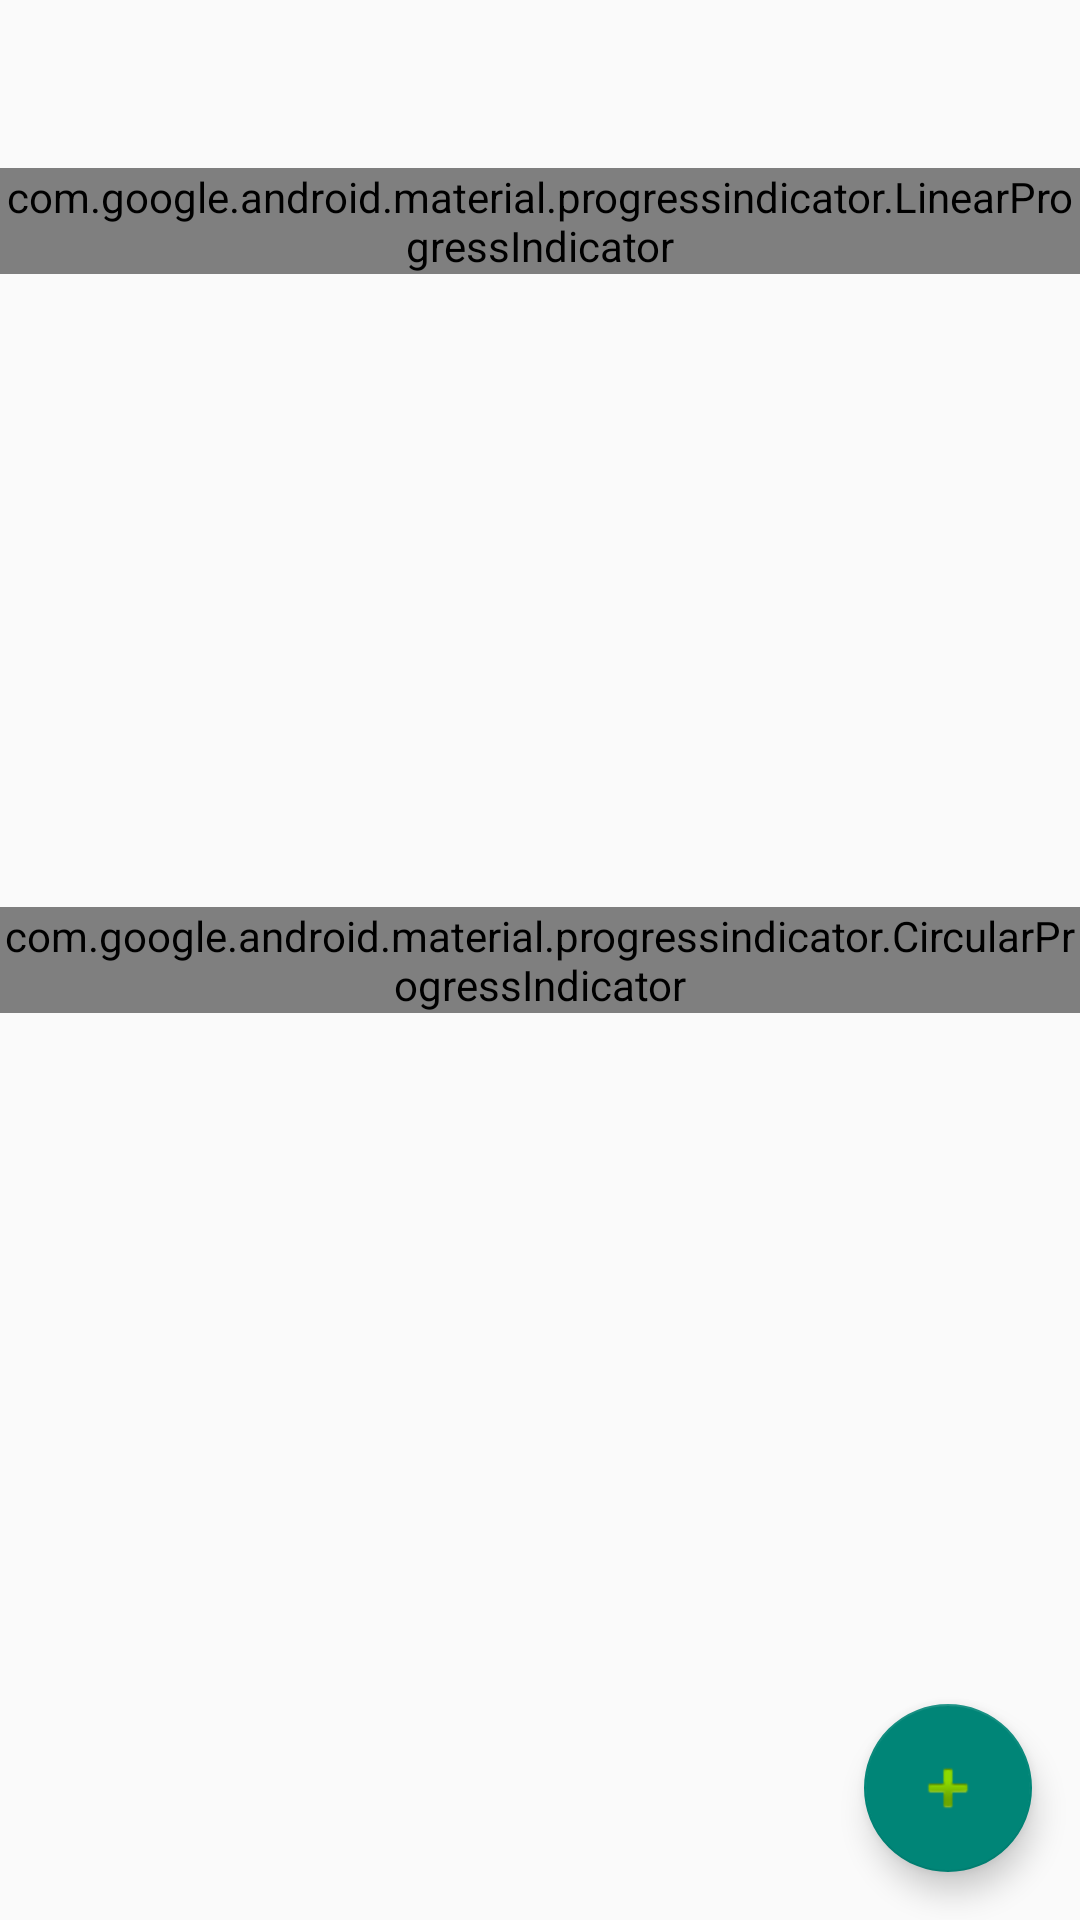

Where icons sit on this 1080 × 1920 app screen, as (x1, y1, x2, y2):
New note: (864, 1704, 1032, 1872)
